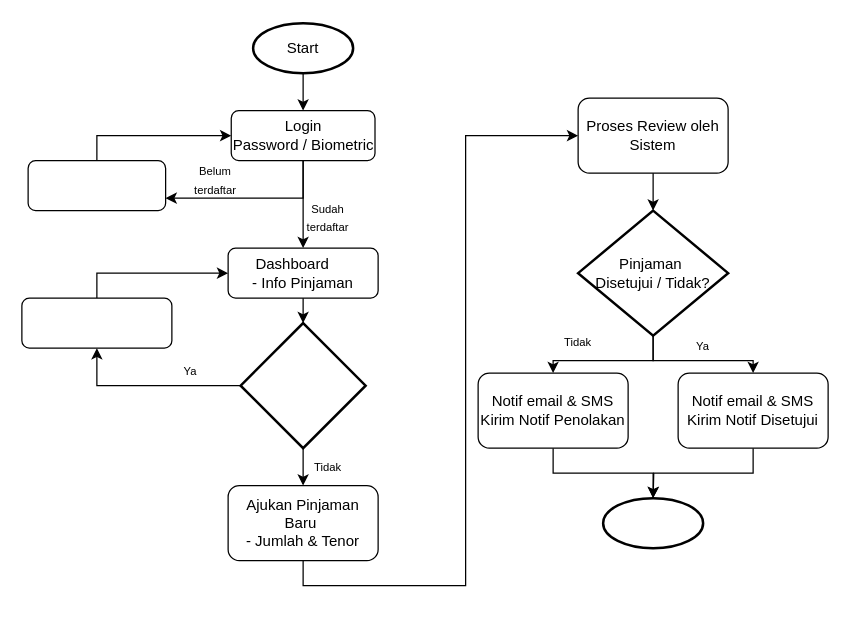
Some shapes in this 850 by 618 pixel diagram are drawn without their labels. Here are the shapes that lost their labels. From the top down, the box of each, then its label:
(27, 159, 166, 211): Registrasi
(21, 297, 172, 348): Notifikasi masih terdapat tagihan pinjaman
(239, 321, 366, 449): Cek apakah ada pinjaman?
(601, 496, 704, 549): End
